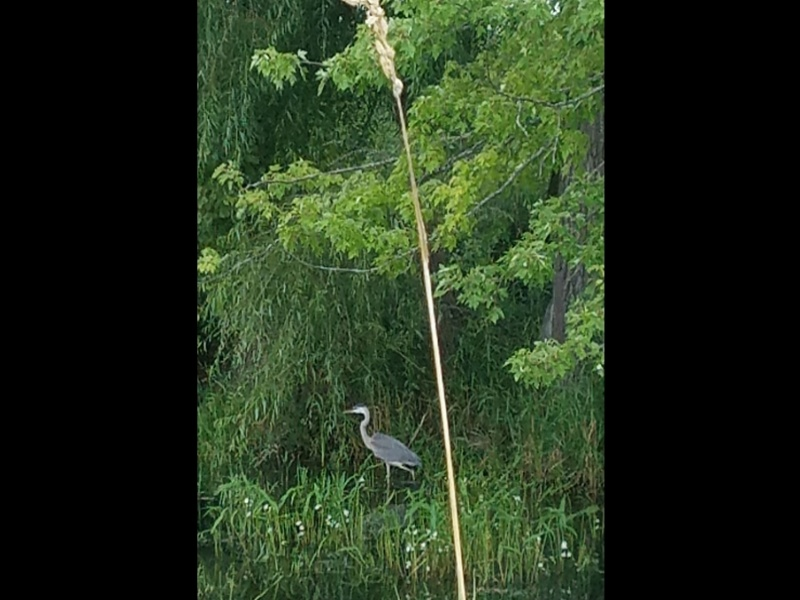heron: (344, 401, 425, 500)
